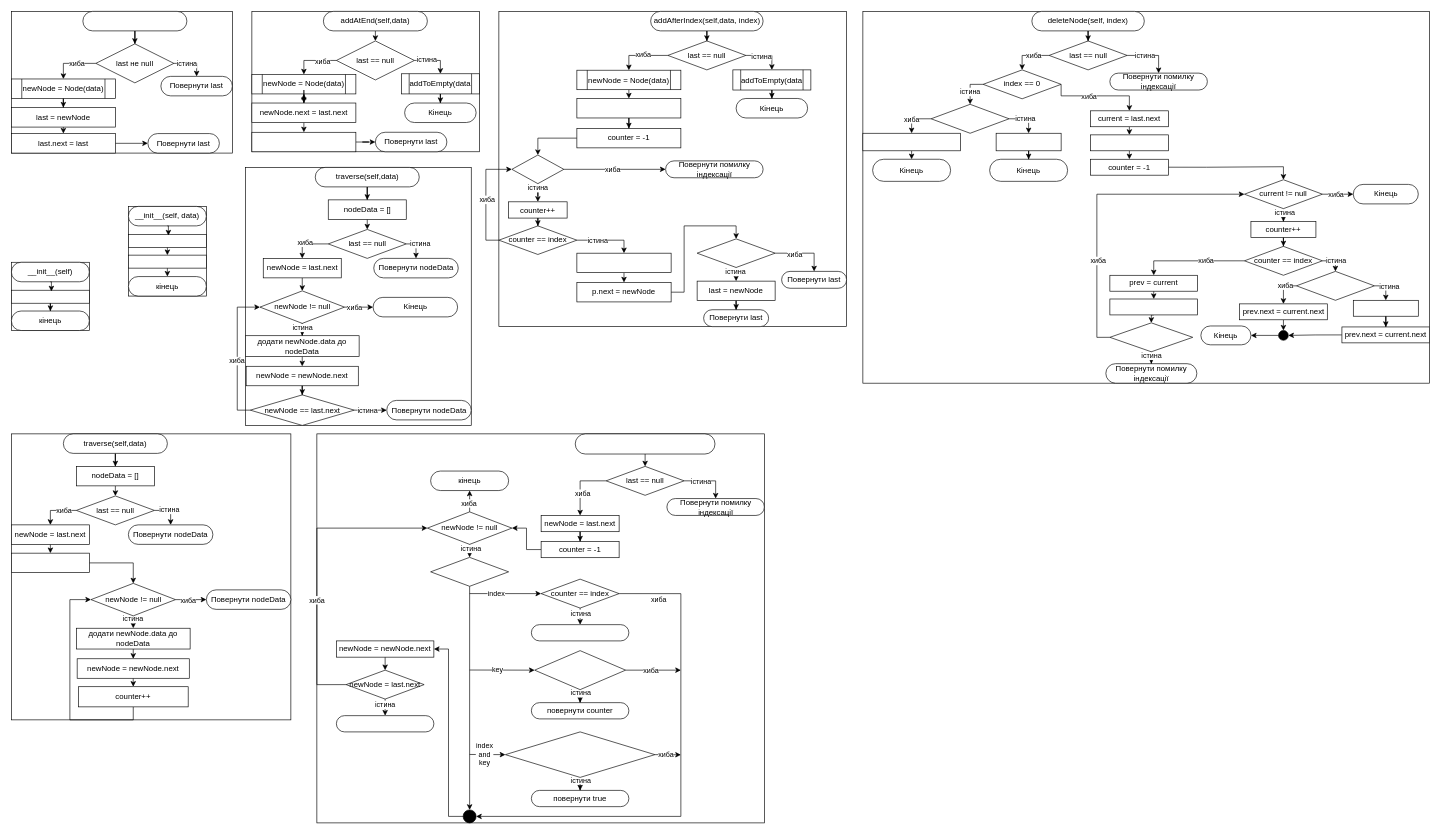
The diagram is 1441 pixels wide and 835 high, and some of its shapes have lost their labels. Grey dashed boxes stand in for pictures. Here are the shapes that lost their labels. From the top down, the centre of each, then its label:
At point (134, 21): "addToEmpty(self,data)".
At point (628, 108): "p = last.next".
At point (969, 118): "last.next == last".
At point (303, 142): "last.next = newNode".
At point (911, 142): "last.next = last.next.next".
At point (1028, 142): "last = null".
At point (1129, 142): "prev = null".
At point (537, 169): "p != null".
At point (167, 240): "self.data = data".
At point (735, 252): "p == last".
At point (167, 261): "self.next = null".
At point (623, 263): "newNode.next = p.next".
At point (50, 296): "self.last = None".
At point (1335, 285): "current == last".
At point (1153, 306): "current = current.next".
At point (1385, 308): "last = prev".
At point (1151, 337): "current == last.next".
At point (645, 443): "search(self, index, key, way)".
At point (50, 562): "counter = 0".
At point (469, 571): "вибір way".
At point (580, 632): "повернути newNode.data".
At point (580, 670): "newNode.data == key".
At point (385, 723): "повернути null".
At point (580, 754): "newNode.data == key і counter == index".
